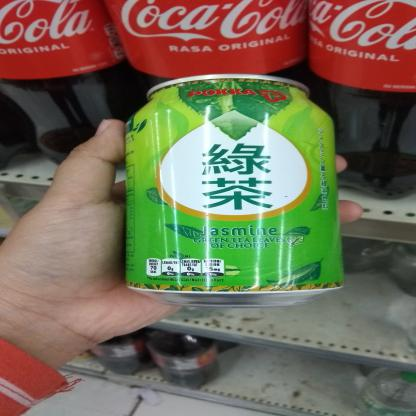can: (116, 70, 350, 311)
